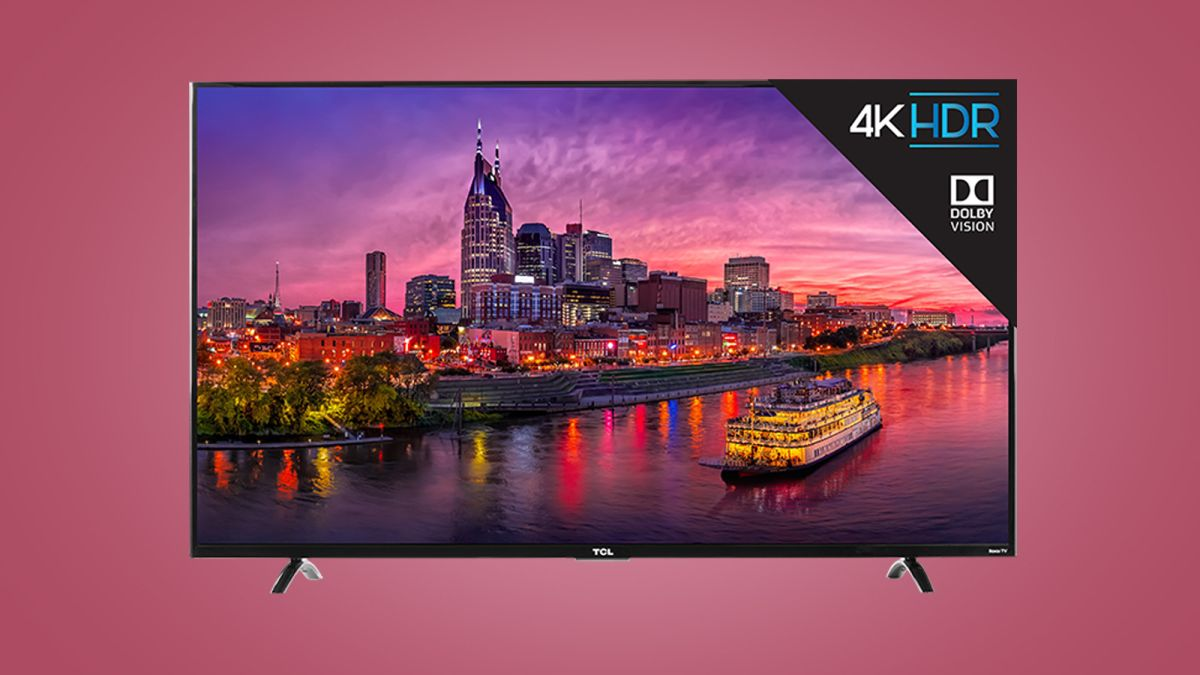tv: (154, 59, 1035, 616)
